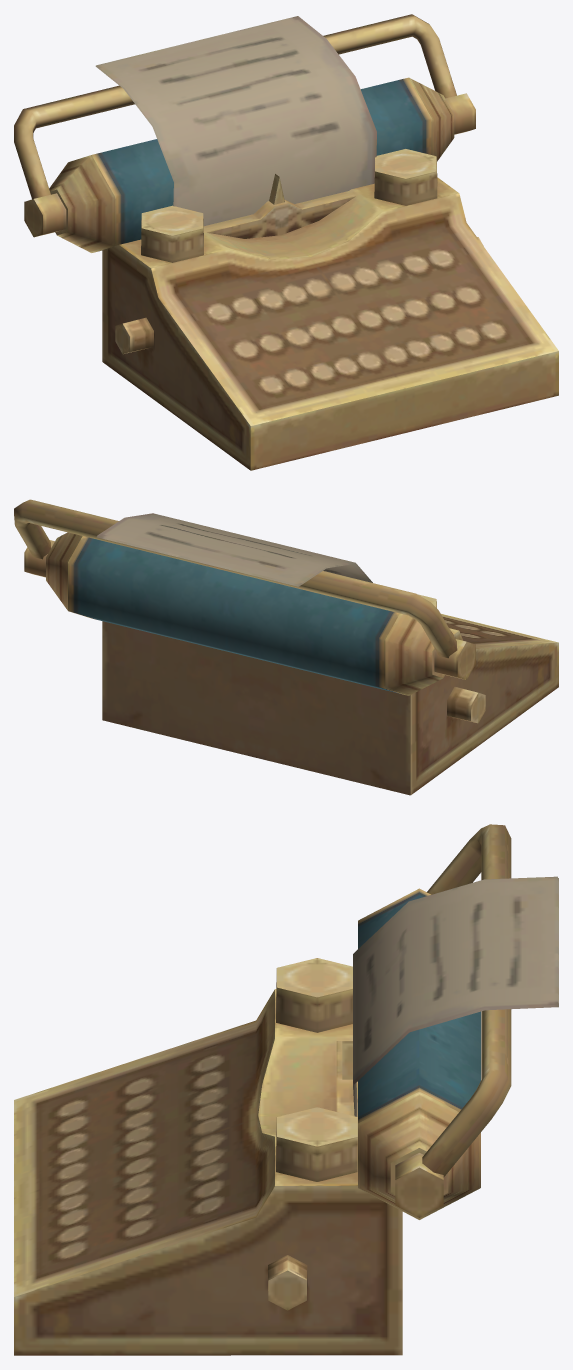
File: Homeworld_Interior_Fd_Decoration_Prop_Daziji_01_Vo.fbx
The picture shows the model from 3 angles, top to bottom: view 1: azimuth 30°, elevation 25°; view 2: azimuth 150°, elevation 25°; view 3: azimuth 270°, elevation 25°; orthographic projection. The views are drawn at different scales.
Visible parts, largest first — view 1: Indoor_Fd_Prop_Hotel_Daoju_A_20_Vo; view 2: Indoor_Fd_Prop_Hotel_Daoju_A_20_Vo; view 3: Indoor_Fd_Prop_Hotel_Daoju_A_20_Vo.
Part boxes in pixels (x1,y1,x2,y2): Indoor_Fd_Prop_Hotel_Daoju_A_20_Vo: (14, 14, 558, 470); Indoor_Fd_Prop_Hotel_Daoju_A_20_Vo: (14, 499, 558, 795); Indoor_Fd_Prop_Hotel_Daoju_A_20_Vo: (14, 824, 558, 1355).
Bounding box in the file's own units: 1 × 0.5339 × 0.8356.
1 material, 1 textured.
